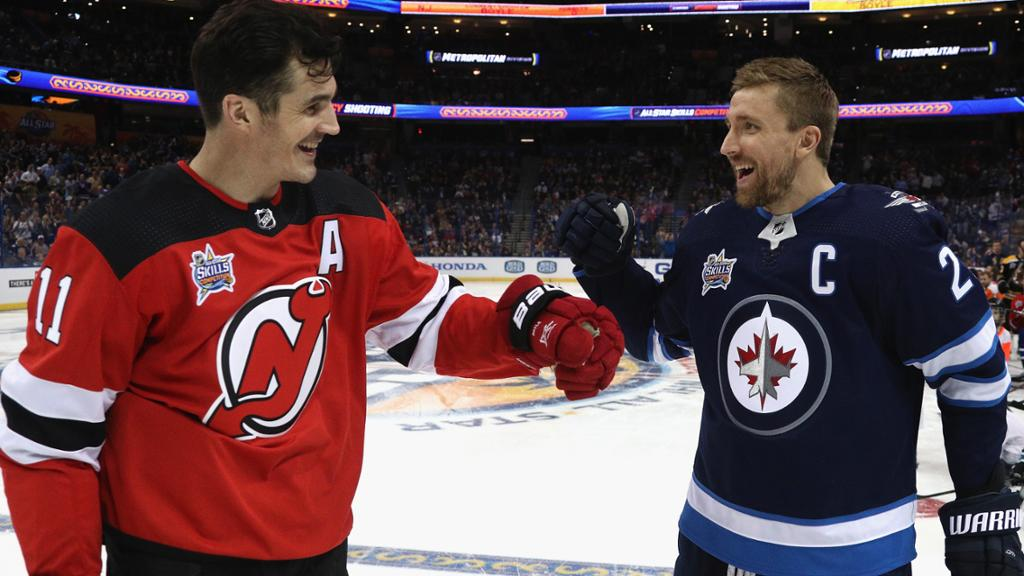geico: (653, 254, 671, 279)
